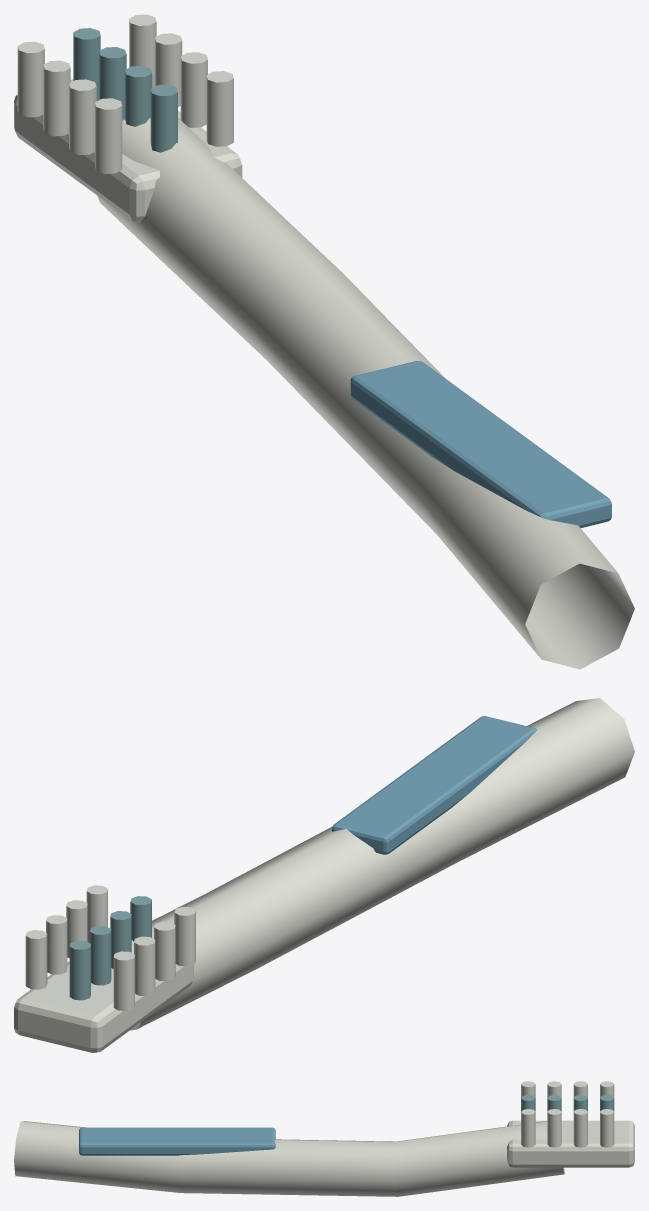
File: loot_toothbrush.glb
The picture shows the model from 3 angles, top to bottom: view 1: azimuth 30°, elevation 25°; view 2: azimuth 150°, elevation 25°; view 3: azimuth 270°, elevation 25°; orthographic projection. The views are drawn at different scales.
Visible parts, largest first — view 1: loot_toothbrush; view 2: loot_toothbrush; view 3: loot_toothbrush.
Boxes of the visible parts, bbox=[...] form: loot_toothbrush: bbox=[14, 14, 634, 669]; loot_toothbrush: bbox=[14, 698, 634, 1052]; loot_toothbrush: bbox=[14, 1081, 634, 1196].
Size of the model in its own units: 0.036 by 0.034 by 0.1893.
